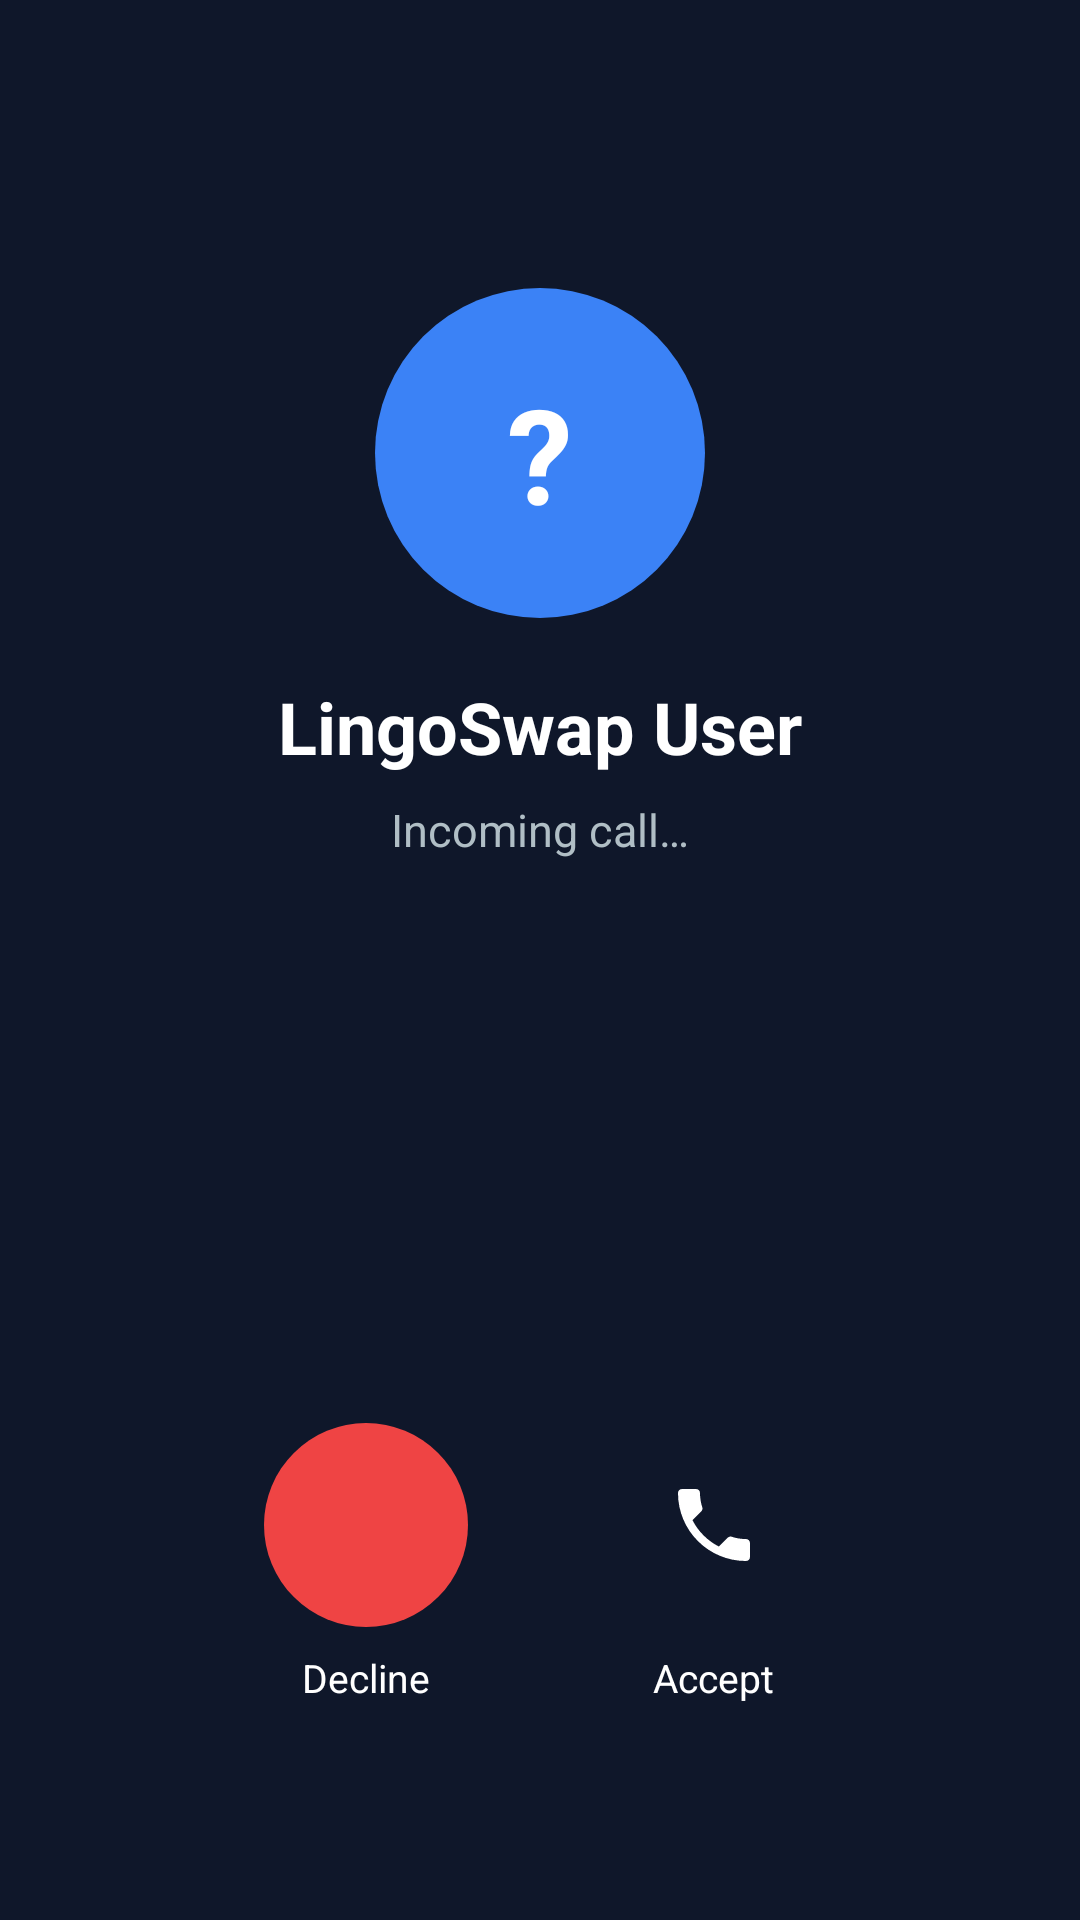

Locate icon controls on the screen. Image size 1080x1920, boxes as (x1, y1, x2, y2).
phone: (678, 1489, 750, 1561)
